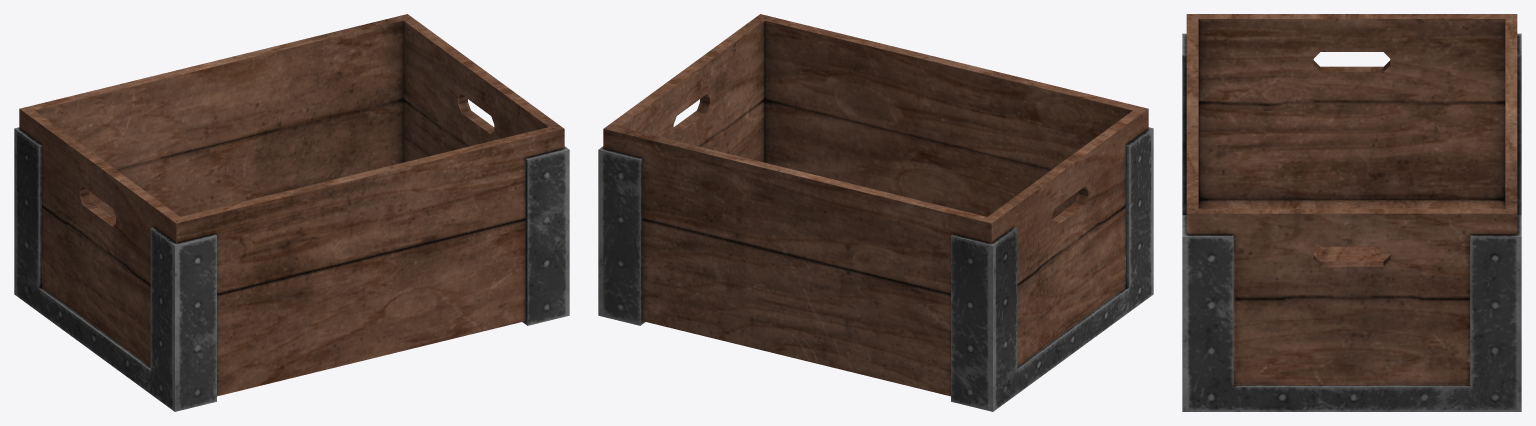
Rendered from crate.glb.
The picture shows the model from 3 angles, left to right: view 1: azimuth 30°, elevation 25°; view 2: azimuth 150°, elevation 25°; view 3: azimuth 270°, elevation 25°; orthographic projection. The views are drawn at different scales.
Visible parts, largest first — view 1: Crate; view 2: Crate; view 3: Crate.
Boxes of the visible parts, left/top/right/bottom form: Crate: left=14, top=14, right=569, bottom=411; Crate: left=598, top=14, right=1153, bottom=411; Crate: left=1182, top=14, right=1521, bottom=411.
Bounding box in the file's own units: 203 × 91.7 × 143.
1 material, 1 textured.
